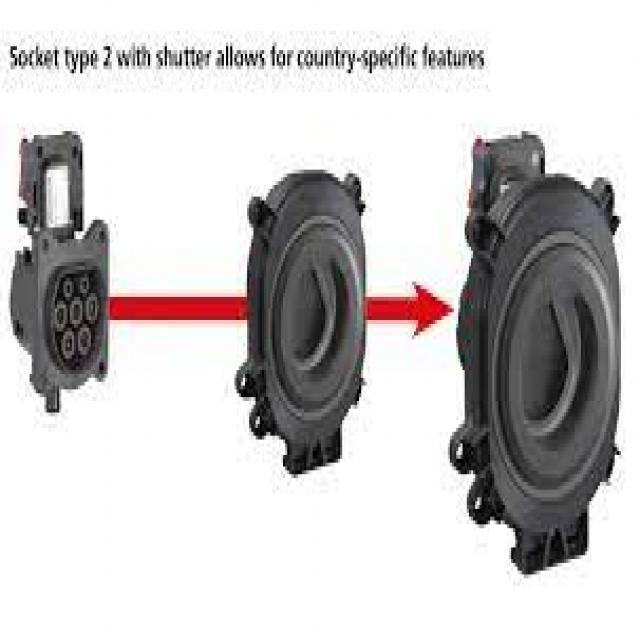Type 2: (21, 260, 136, 378)
